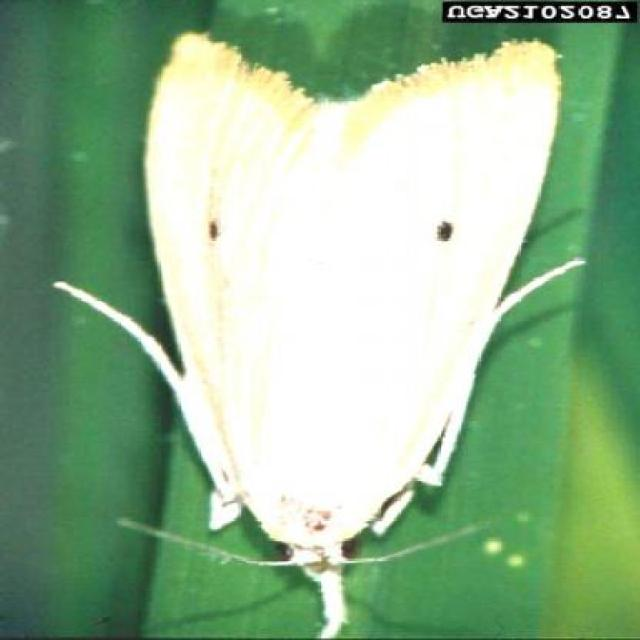stem-borer: (96, 26, 579, 640)
